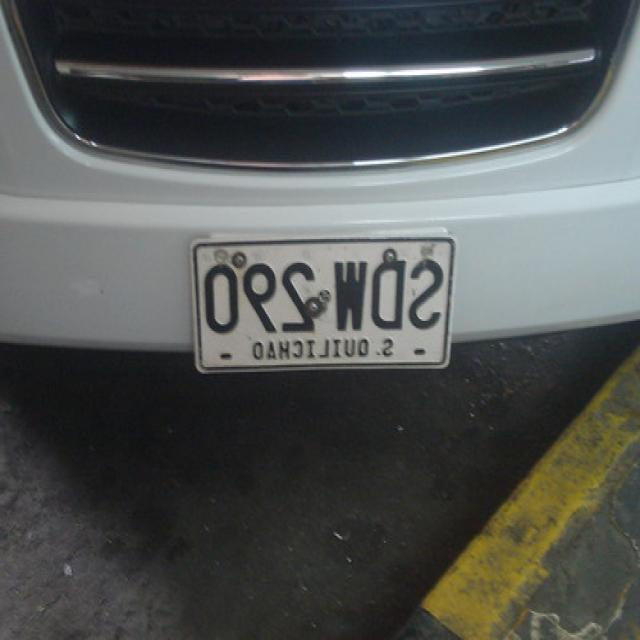placas: (189, 250, 446, 335)
